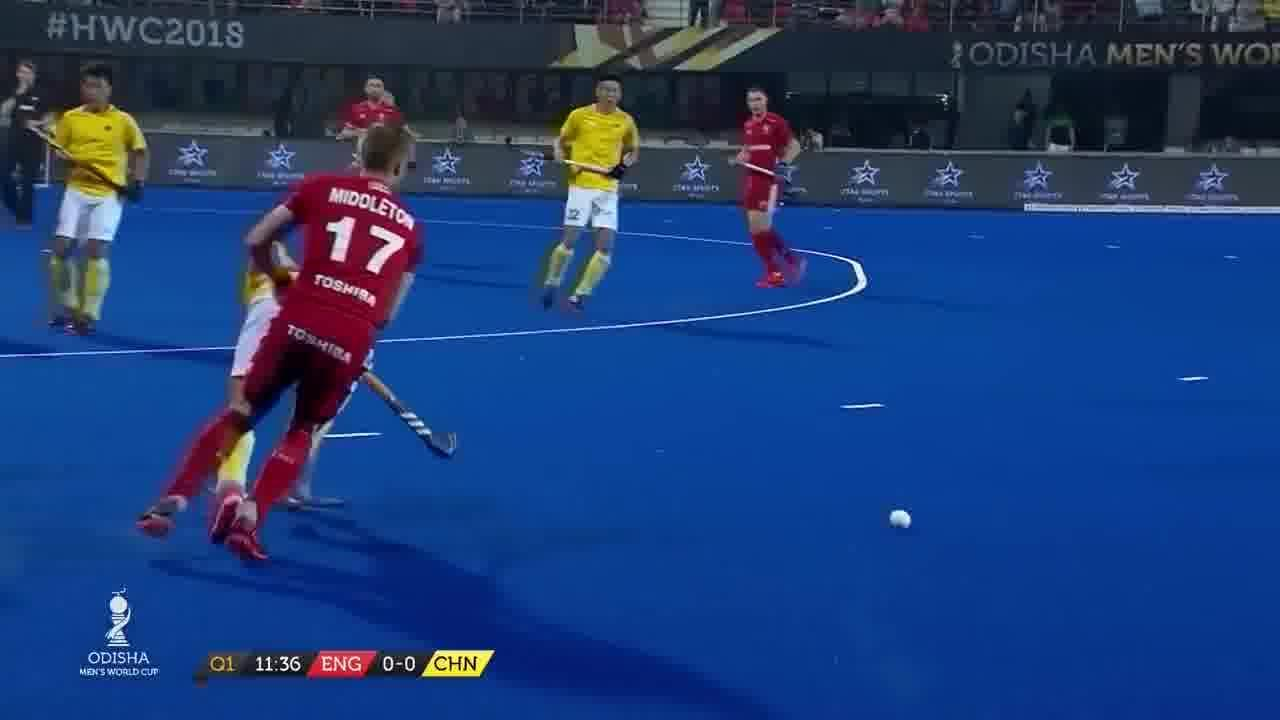ball: (886, 498, 920, 536)
